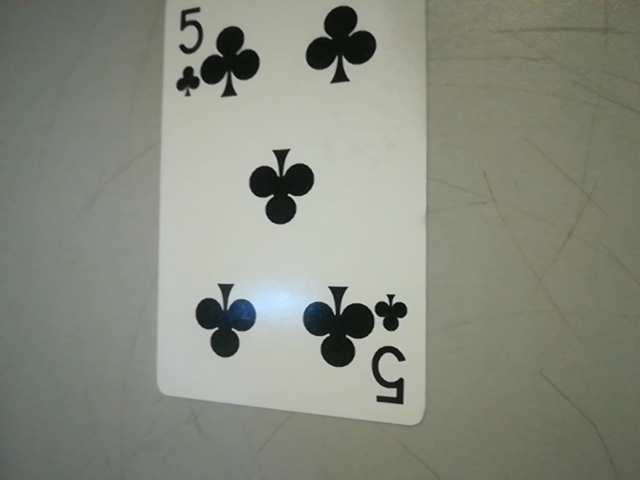mh 5: (364, 286, 423, 416)
